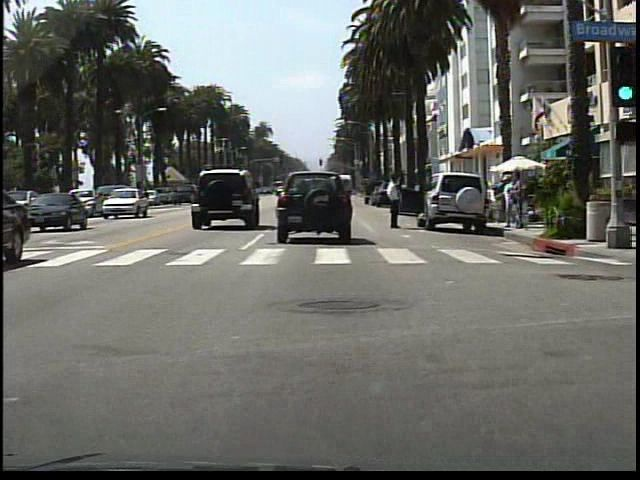person: (379, 171, 406, 232)
